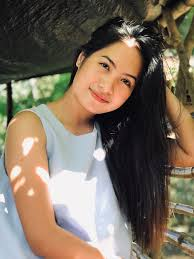GIRL: (75, 30, 144, 122)
